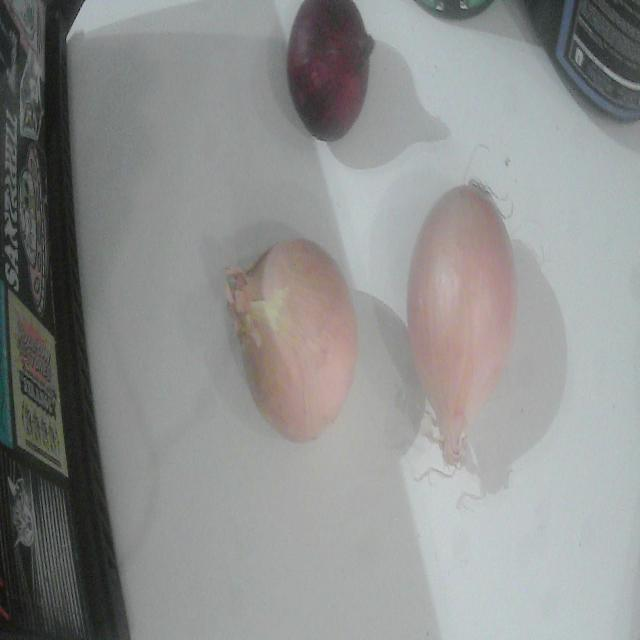Onion: (408, 181, 517, 465), (228, 238, 358, 441), (287, 0, 374, 141)
